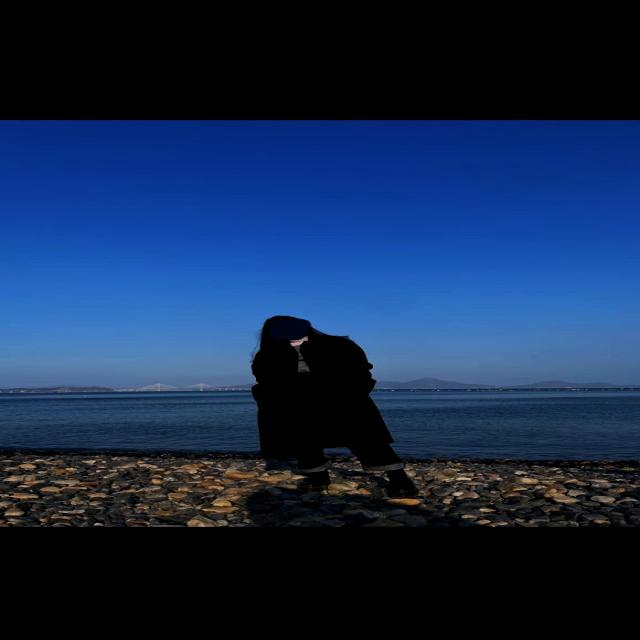coat: (253, 330, 392, 460)
denimpants: (290, 386, 405, 474)
